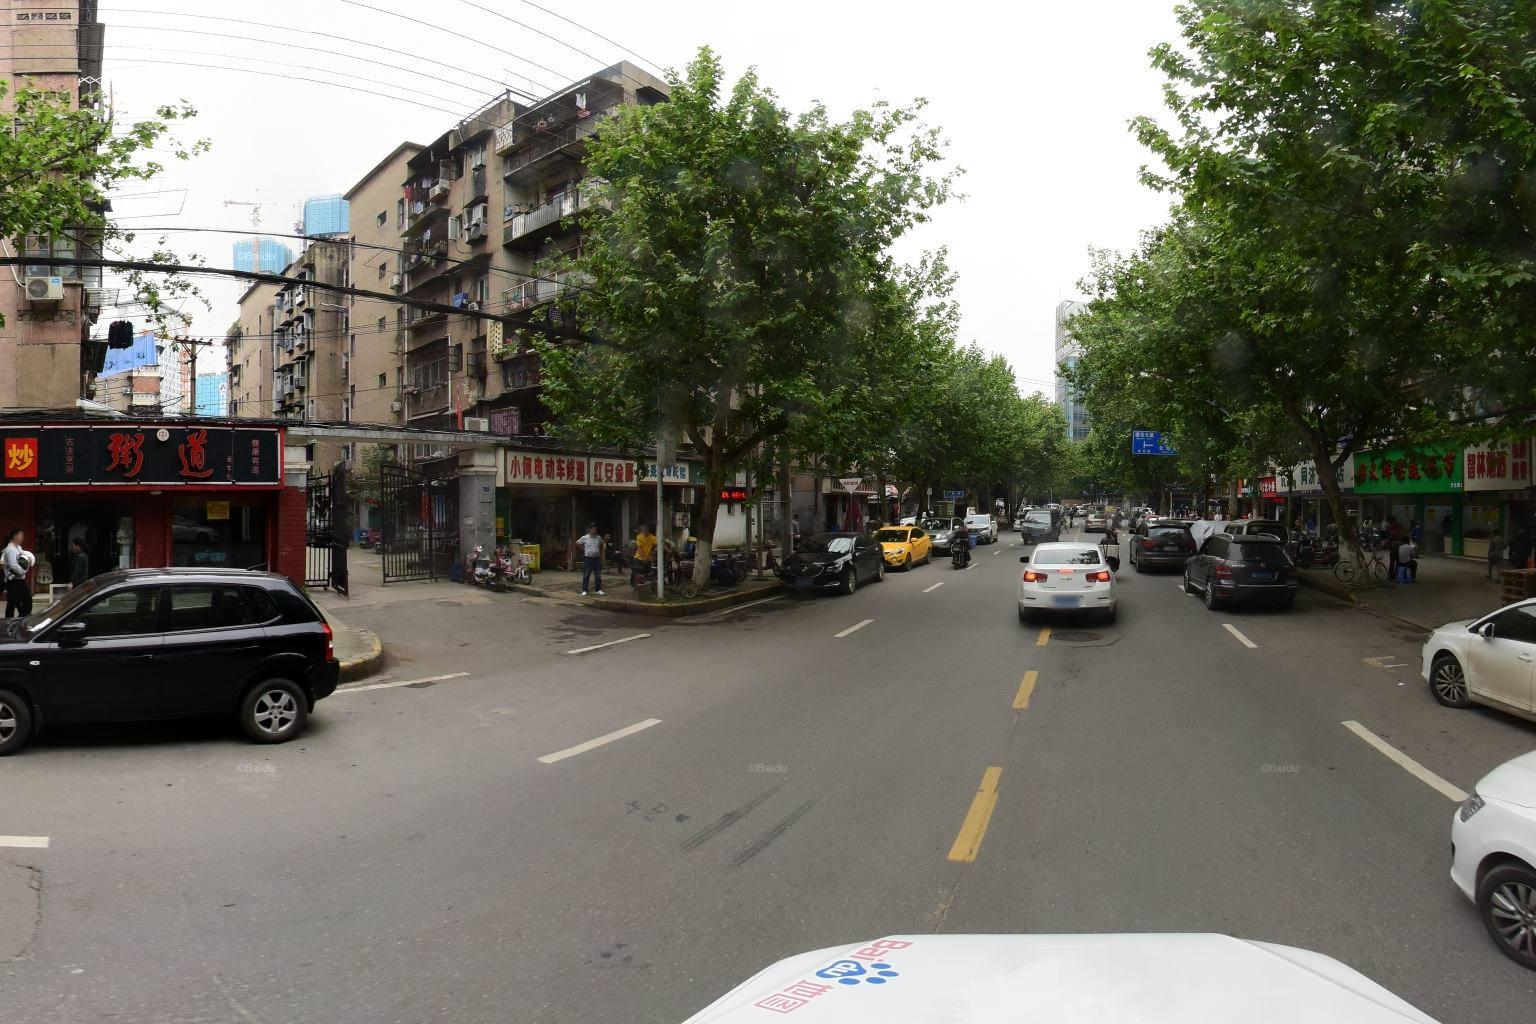car: (1, 554, 341, 747), (1185, 503, 1349, 603), (1424, 610, 1535, 722), (807, 522, 869, 610)
